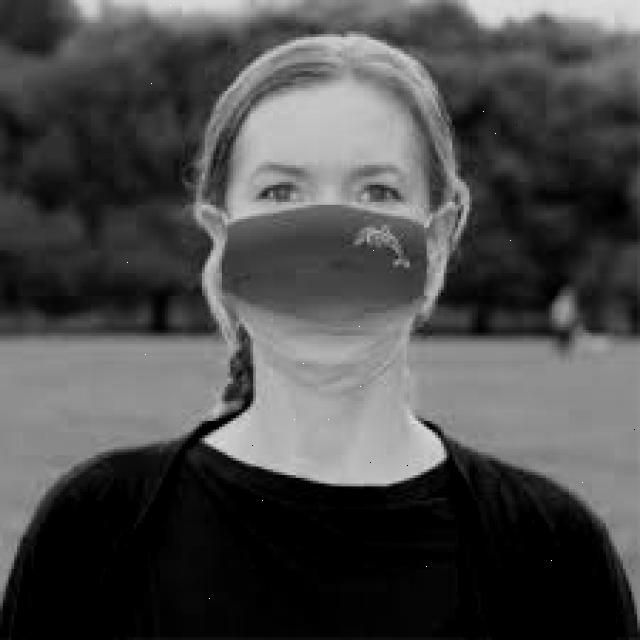fake: (211, 203, 438, 394)
real: (230, 78, 434, 401)
